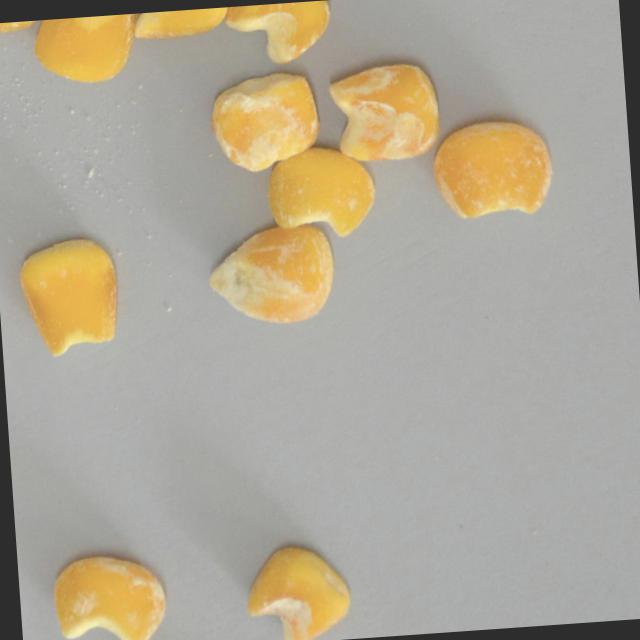pelicula: (203, 223, 335, 329), (427, 113, 553, 224), (15, 235, 120, 361), (205, 69, 320, 175), (325, 61, 440, 165), (241, 539, 351, 640), (264, 144, 377, 242), (48, 548, 167, 640), (29, 12, 138, 84), (223, 0, 333, 67), (126, 6, 231, 43)
